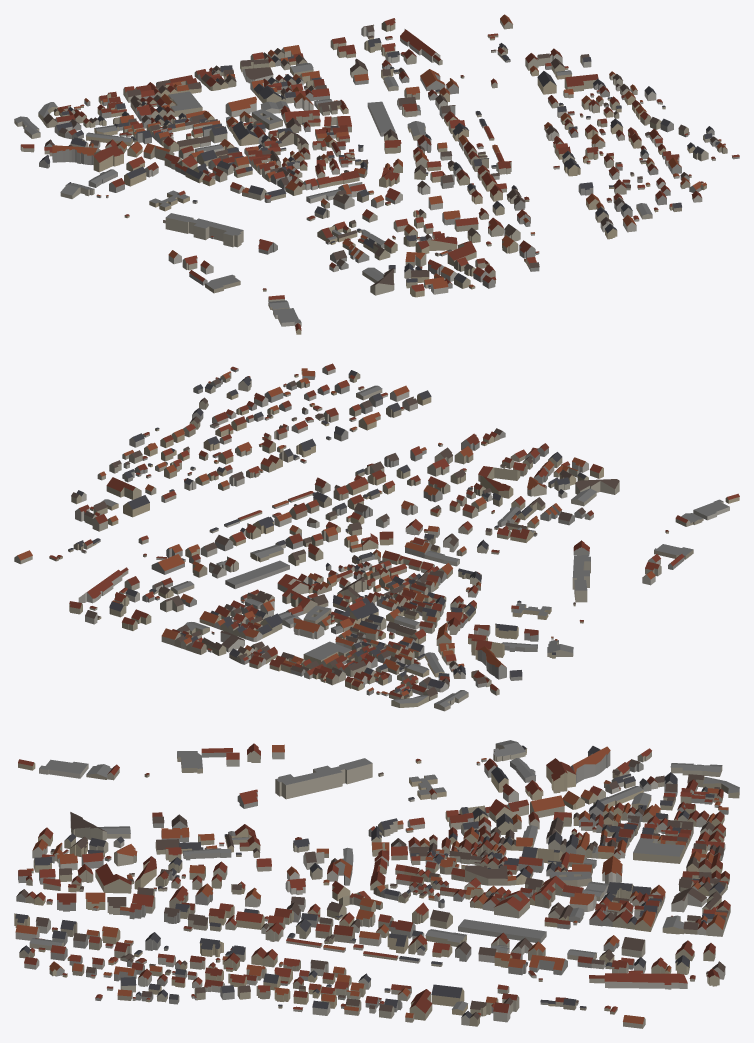
3 views of the same model, one above another, from view 1: azimuth 30°, elevation 25°; view 2: azimuth 150°, elevation 25°; view 3: azimuth 270°, elevation 25° (orthographic). The views are drawn at different scales.
Visible parts, largest first — view 1: buildings; view 2: buildings; view 3: buildings.
Boxes of the visible parts, bbox=[...] form: buildings: bbox=[14, 14, 739, 334]; buildings: bbox=[14, 363, 739, 711]; buildings: bbox=[14, 740, 739, 1028].
Bounding box in the file's own units: 823 × 72.06 × 821.
